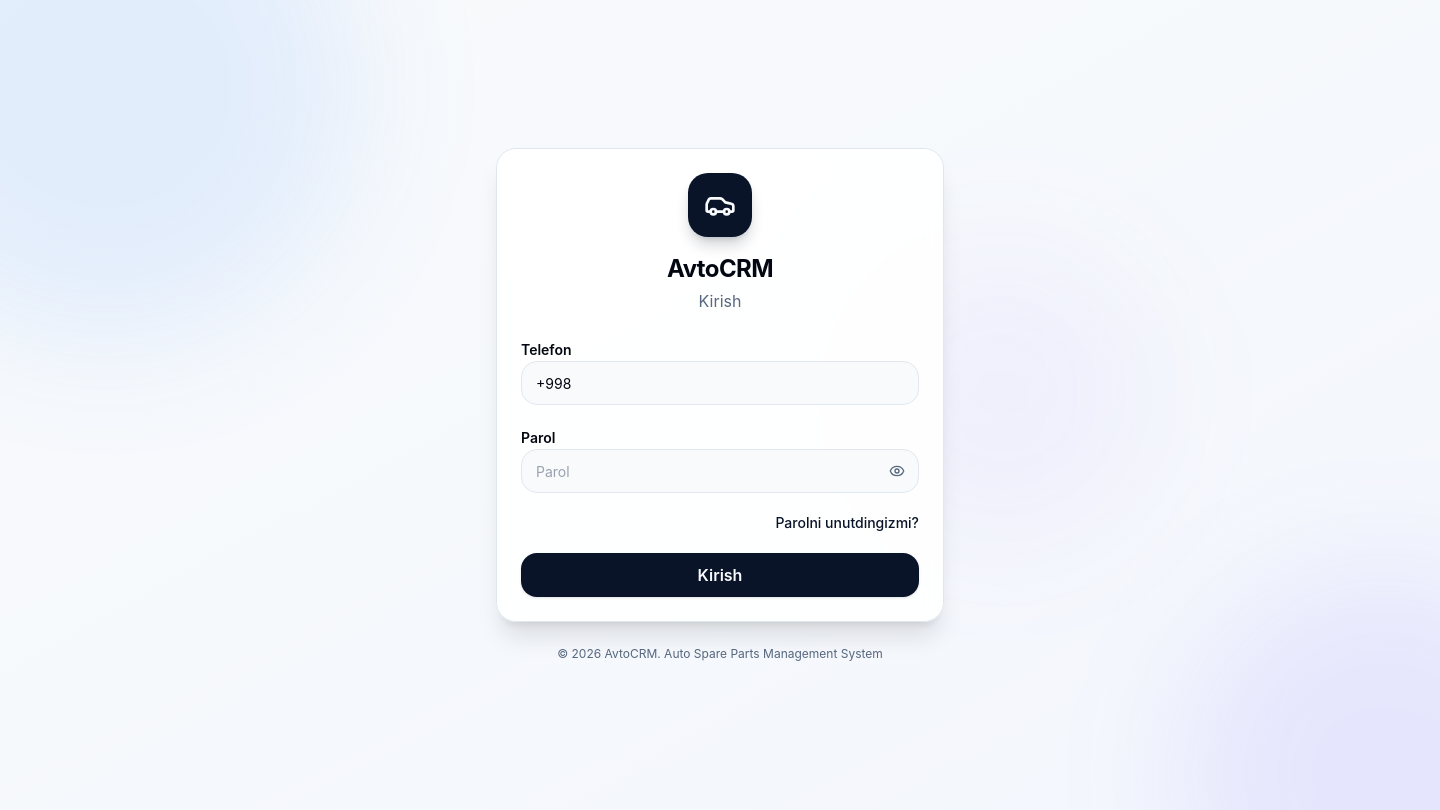
Test: LoginPage › shows an incomplete number error on blur
Type "90123" into the field labelled "Telefon".
click(720, 383); type("90123")  # box [521,361,919,405]
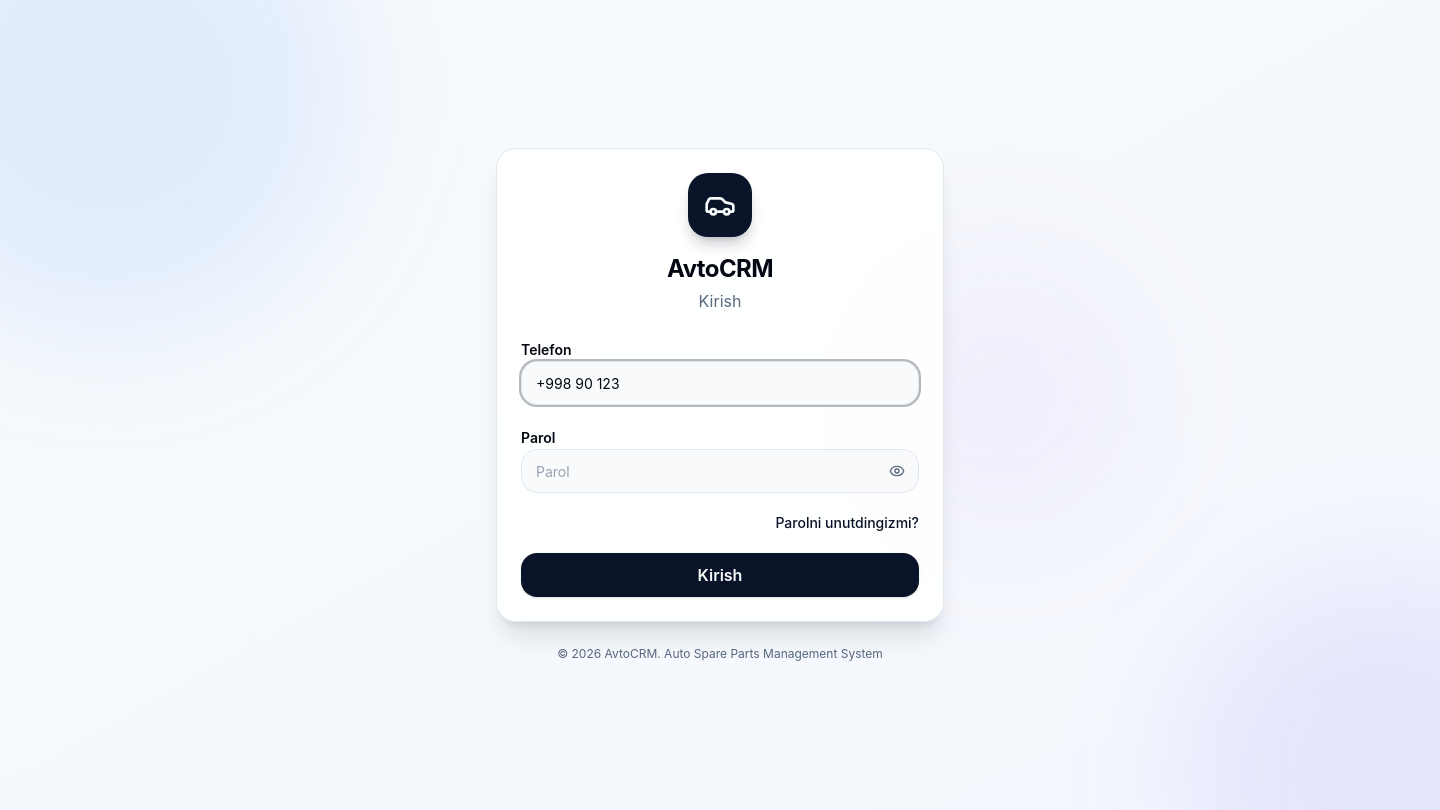
Press Tab
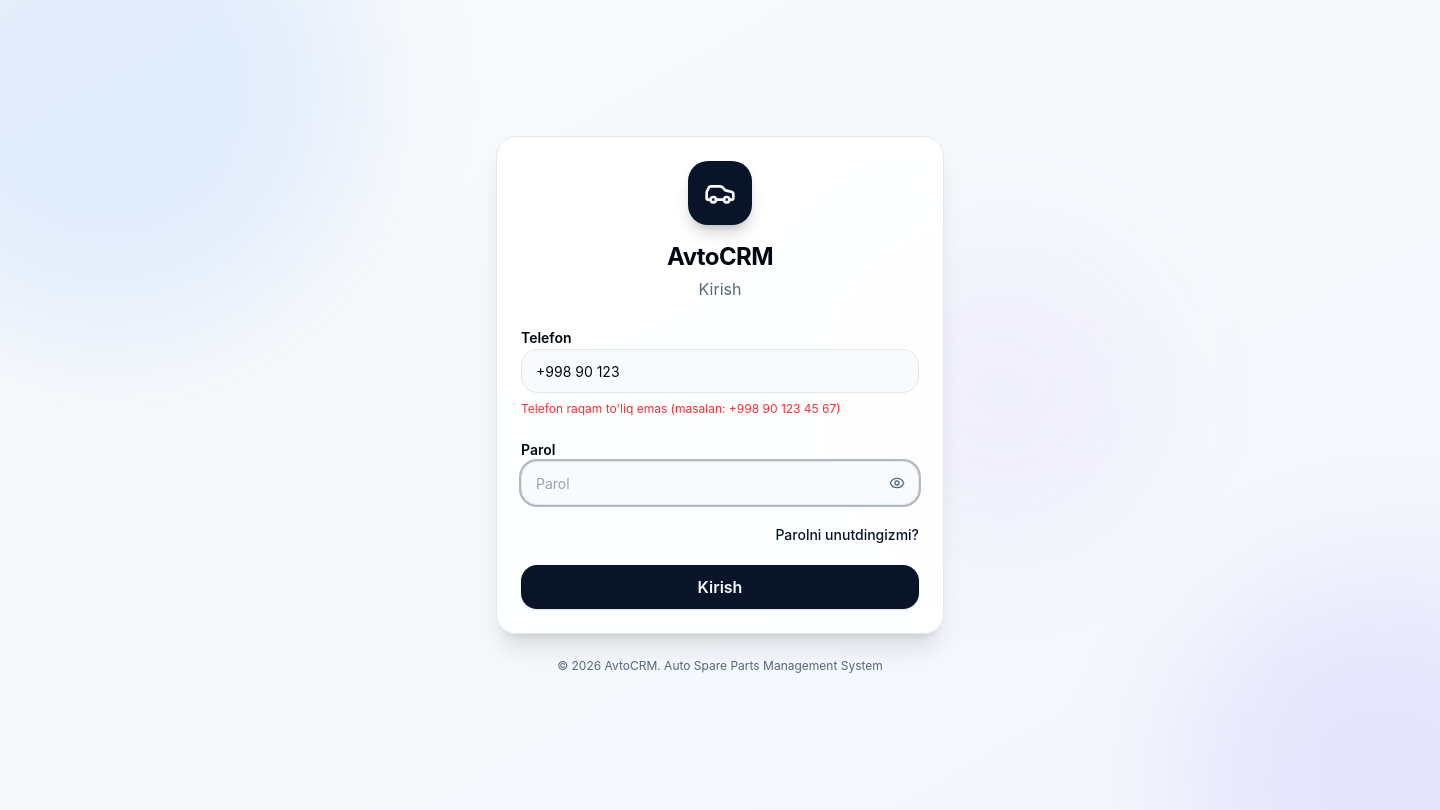
expect the text "Telefon raqam to'liq emas (masalan: +998 90 123 45 67)" is shown: met, box [521,401,841,416]
